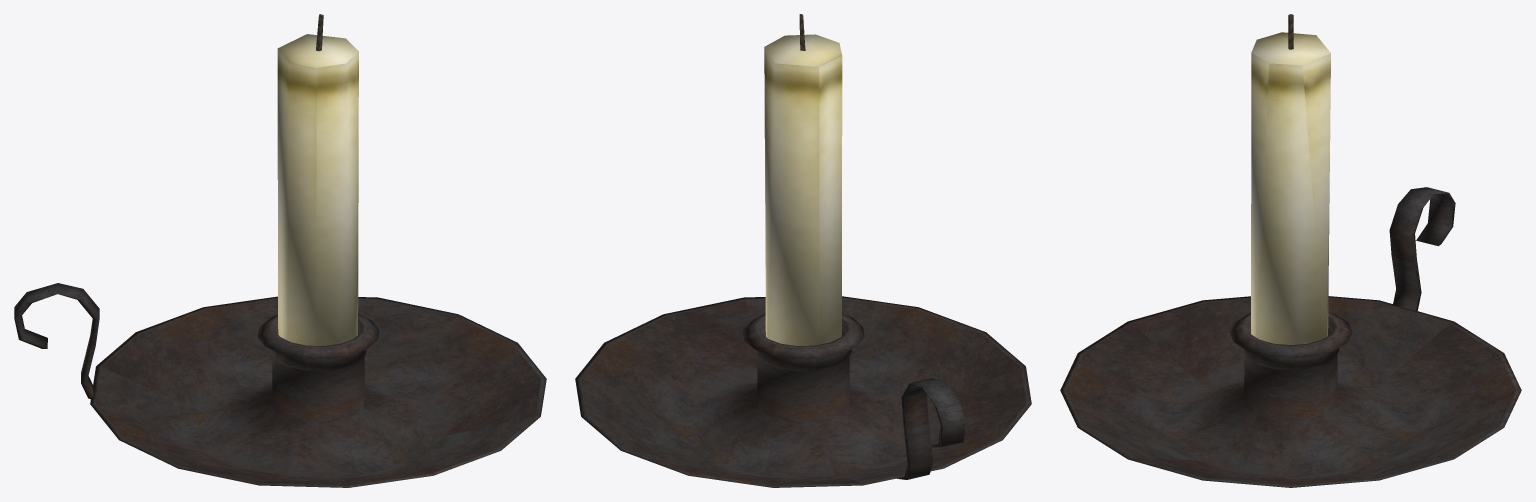
The model's file is candle.glb.
3 renders of one model, left to right at view 1: azimuth 30°, elevation 25°; view 2: azimuth 150°, elevation 25°; view 3: azimuth 270°, elevation 25°, orthographic.
Parts seen in each view (by area): view 1: CandleBass, CandleStick; view 2: CandleBass, CandleStick; view 3: CandleBass, CandleStick.
Part boxes in pixels (x1=…): CandleBass: x1=14, y1=283, x2=546, y2=487; CandleStick: x1=277, y1=34, x2=358, y2=345; CandleBass: x1=575, y1=296, x2=1031, y2=487; CandleStick: x1=764, y1=34, x2=842, y2=345; CandleBass: x1=1060, y1=187, x2=1521, y2=487; CandleStick: x1=1251, y1=32, x2=1330, y2=344.
Bounding box in the file's own units: 0.5227 × 0.4729 × 0.4817.
3 materials, 3 textured.
